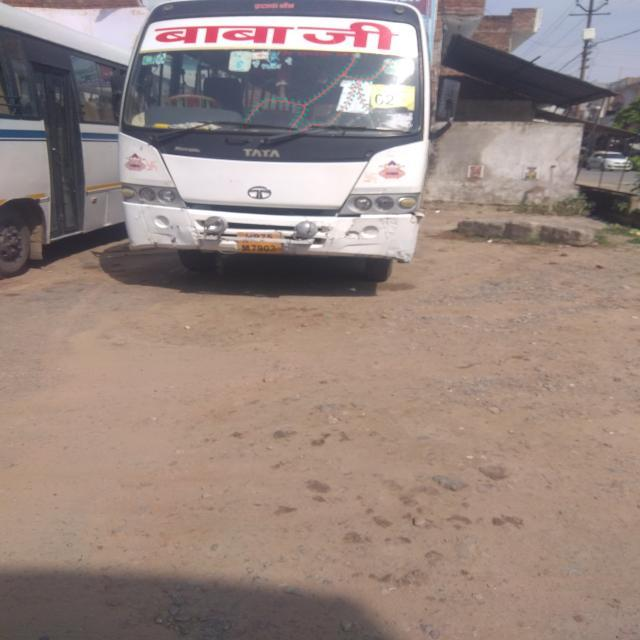Bus: (102, 7, 466, 304)
